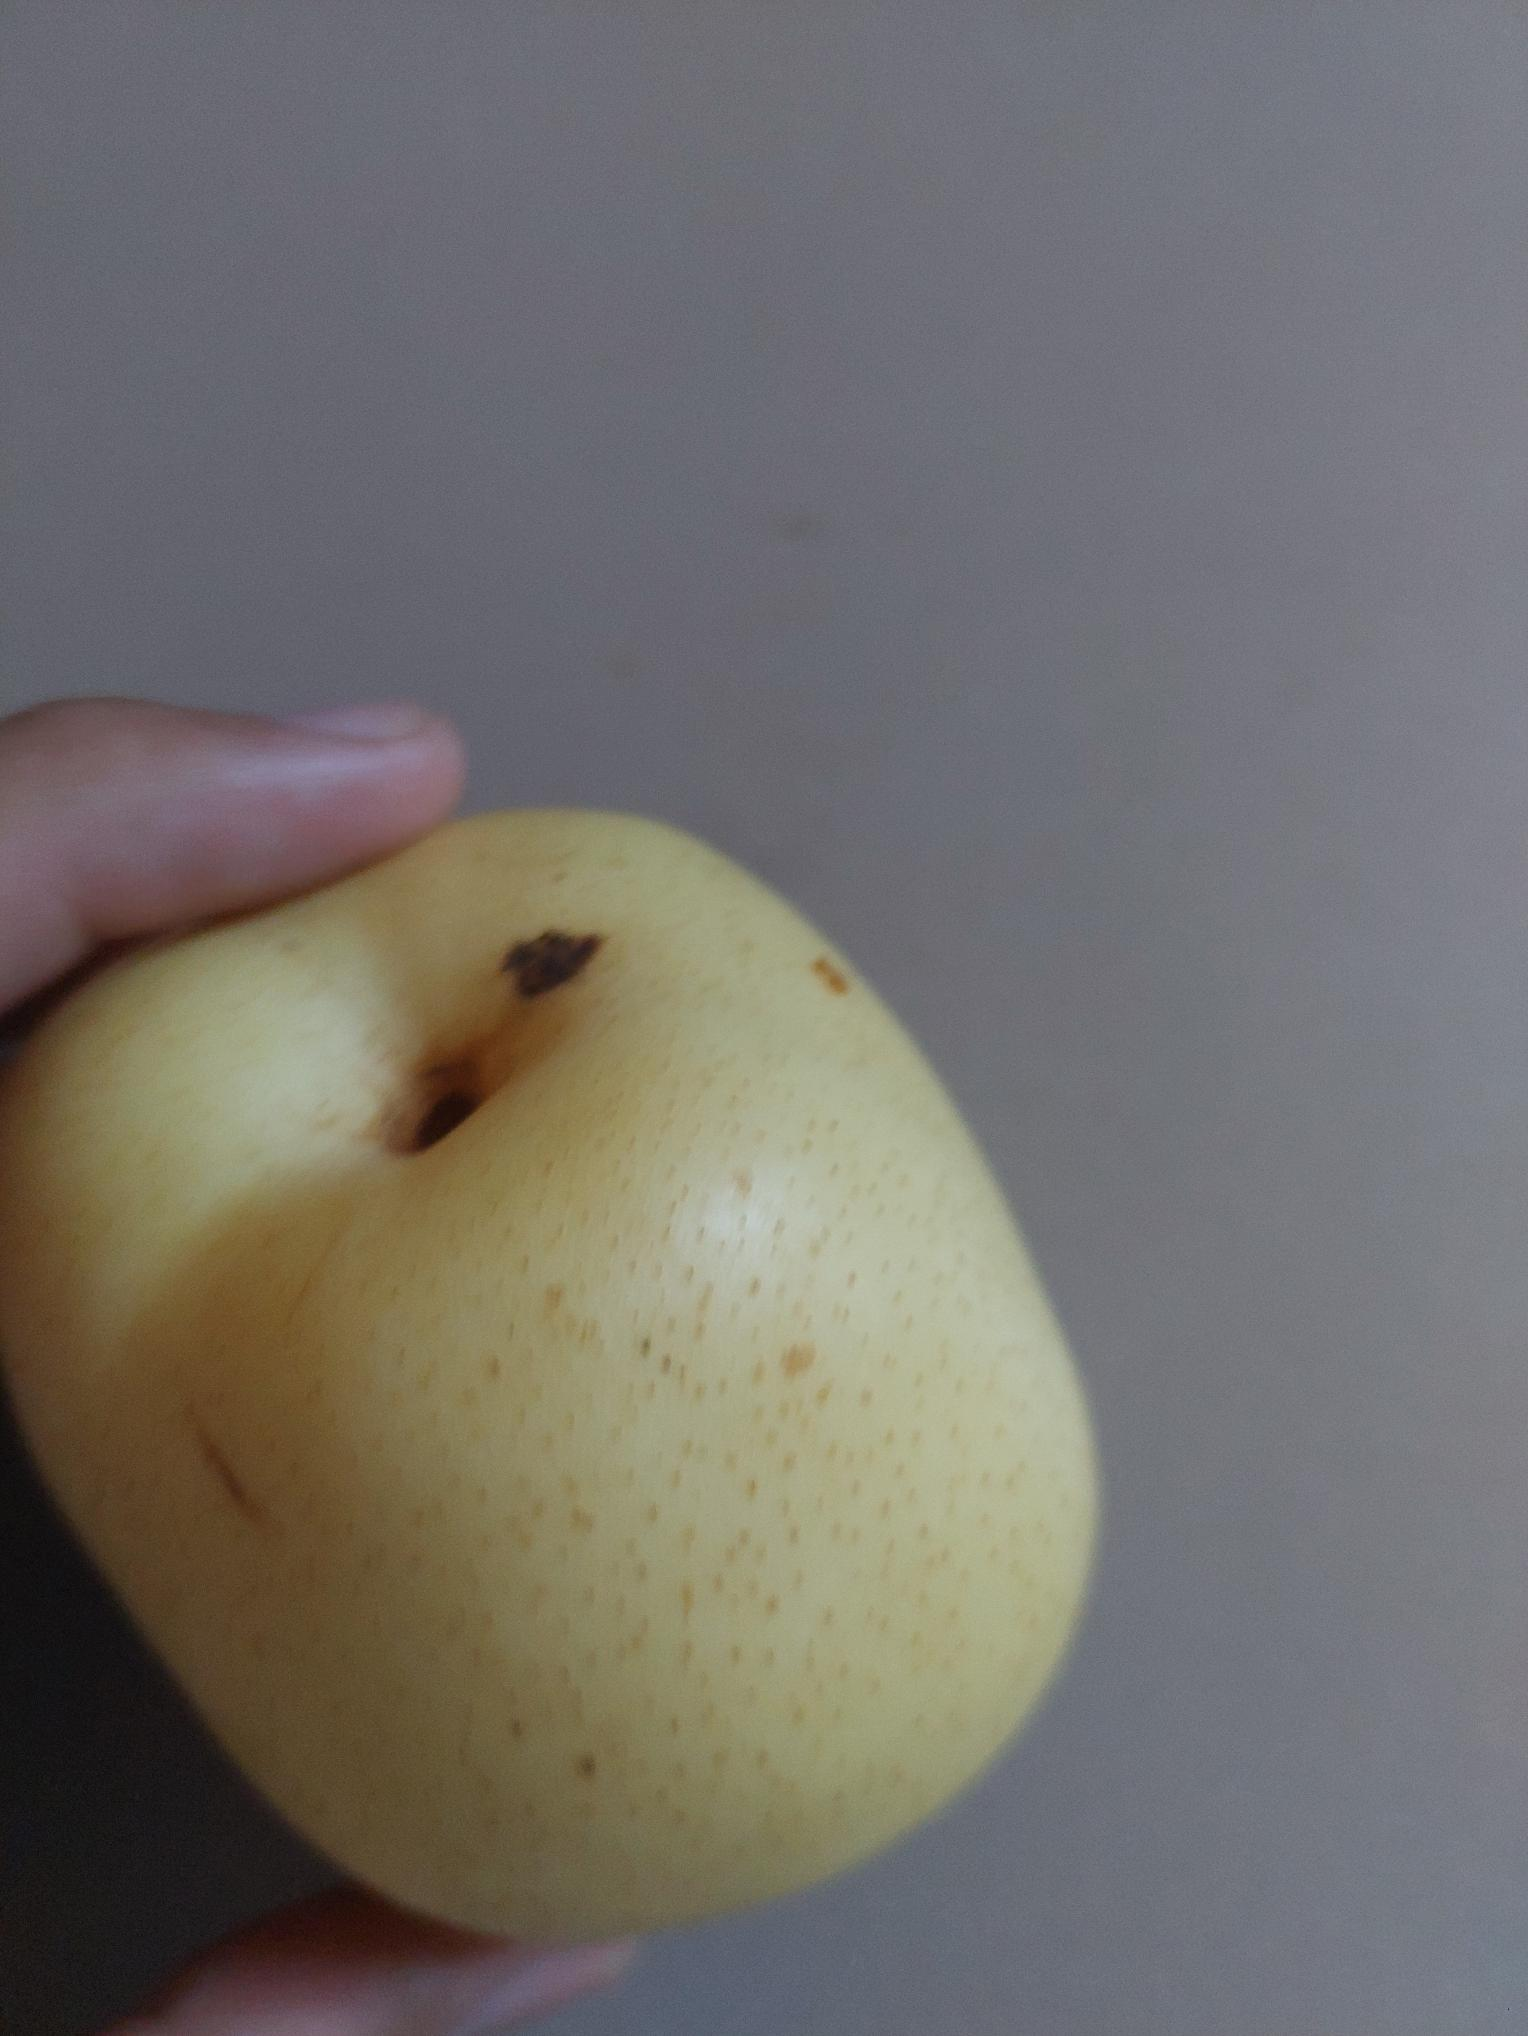Good Pear: (19, 777, 1117, 1940)
